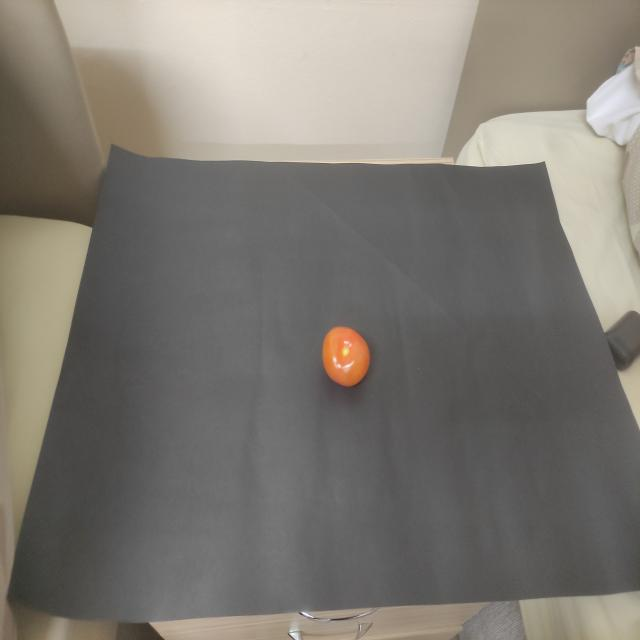sari: (311, 319, 382, 396)
